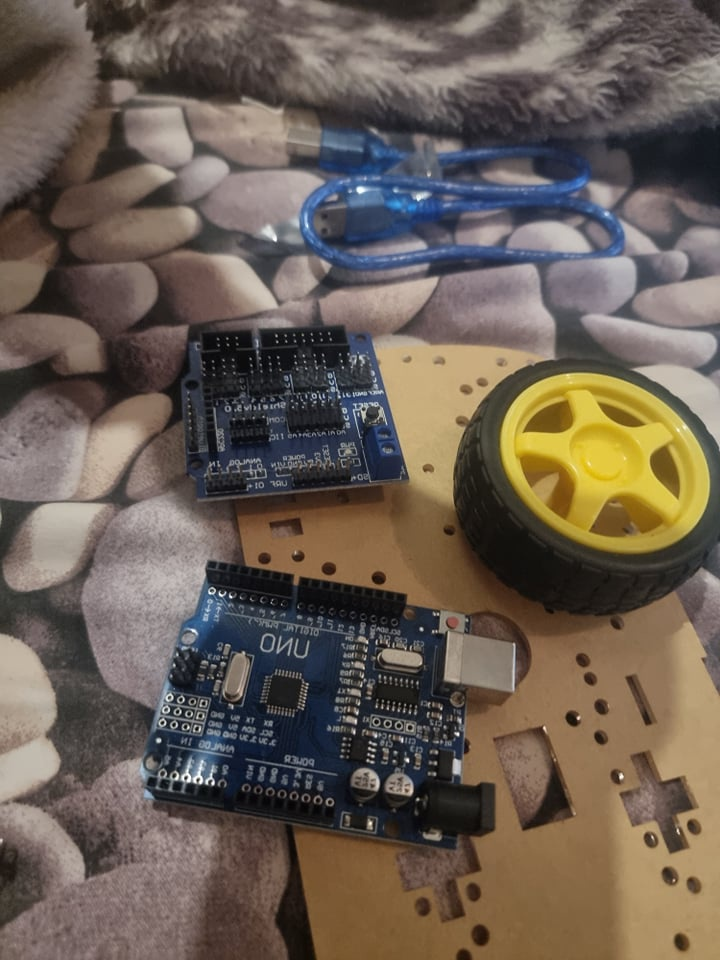5V EXPANSION: (179, 322, 413, 507)
UNO R3: (139, 557, 530, 850)
